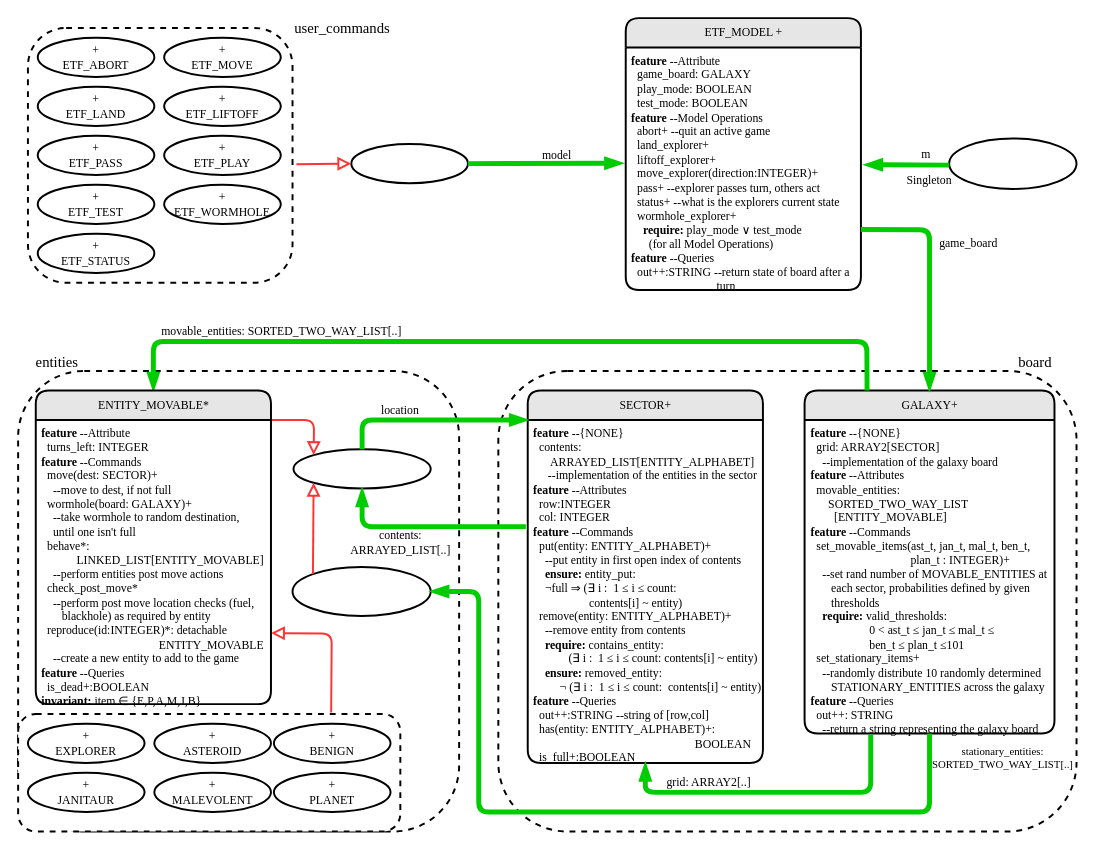
Some shapes in this 1103 by 849 pixel diagram are drawn without their labels. The shapes that lost their labels are listed below. From the top down, each one's centre as x and y in pixels, then its label:
[409,163]: * ETF_COMMAND
[1012,163]: + ETF_MODEL_ACCESS
[361,468]: * ENTITY_ALPHABET
[361,590]: * ENTITY_STATIONARY
